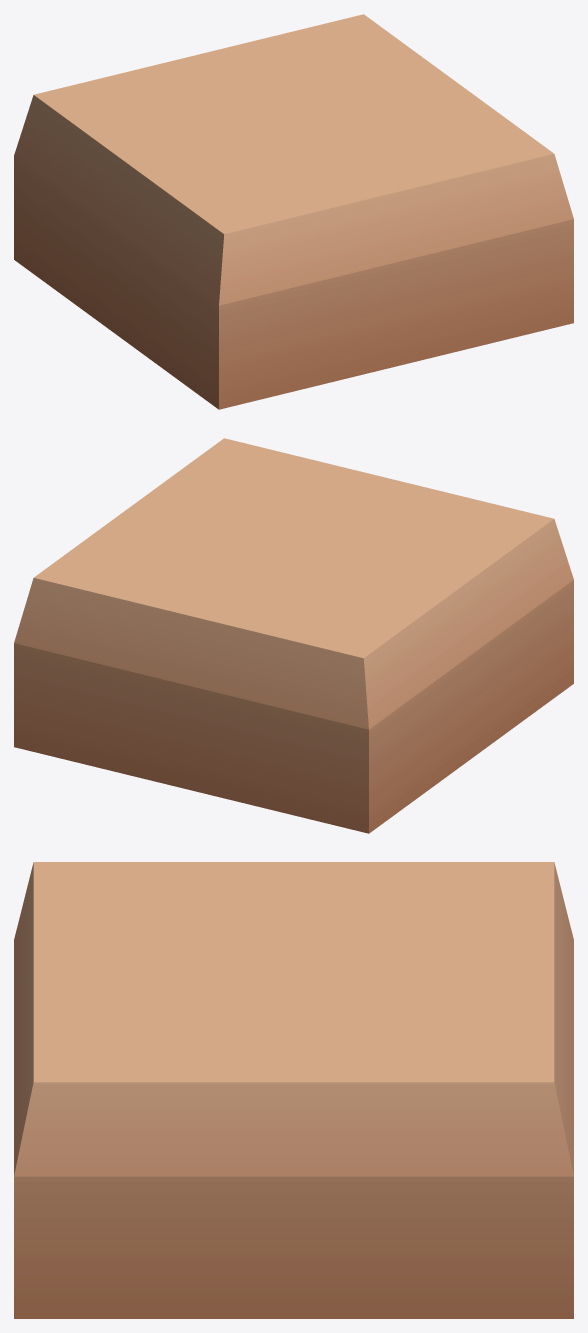
The model's file is tower-square-base-border.glb.
The picture shows the model from 3 angles, top to bottom: view 1: azimuth 30°, elevation 25°; view 2: azimuth 150°, elevation 25°; view 3: azimuth 270°, elevation 25°; orthographic projection. The views are drawn at different scales.
Visible parts, largest first — view 1: tower-square-base-border; view 2: tower-square-base-border; view 3: tower-square-base-border.
Boxes of the visible parts, <box> form: tower-square-base-border: <box>14,14,573,409</box>; tower-square-base-border: <box>14,438,573,833</box>; tower-square-base-border: <box>14,862,573,1318</box>.
Size of the model in its own units: 1 by 0.45 by 1.
1 material, 1 textured.
